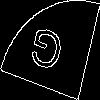G: (25, 25, 66, 81)
